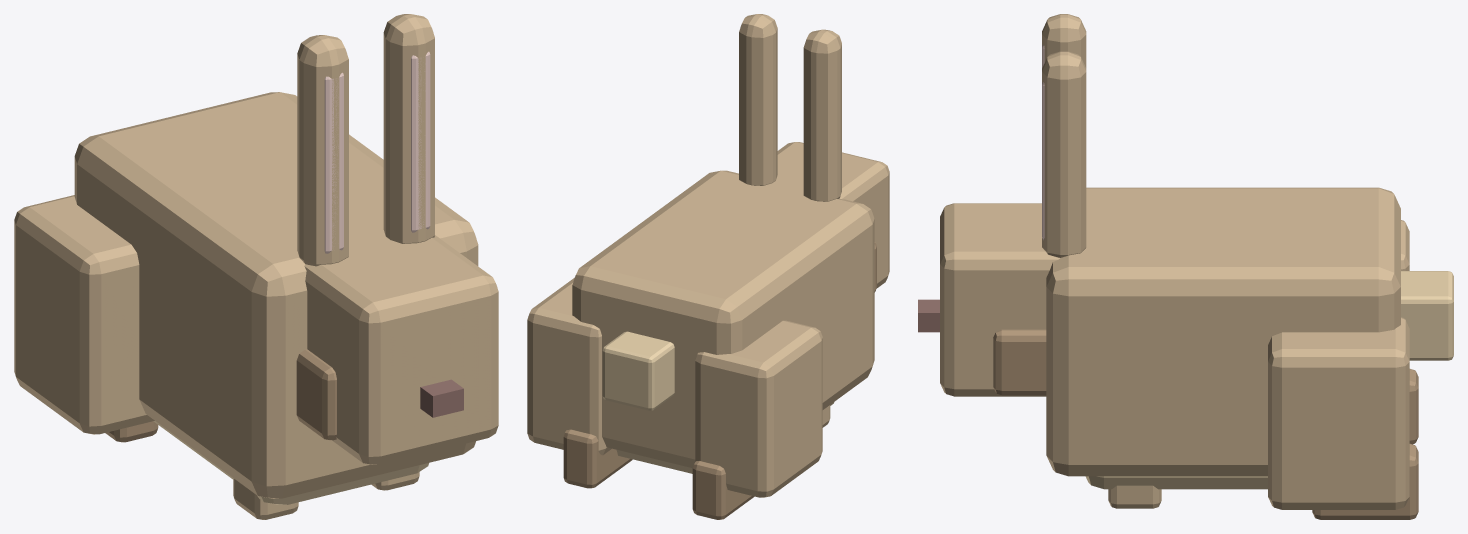
Rendered from hare.glb.
3 views of the same model, side by side, from view 1: azimuth 30°, elevation 25°; view 2: azimuth 150°, elevation 25°; view 3: azimuth 270°, elevation 25° (orthographic). The views are drawn at different scales.
Visible parts, largest first — view 1: Body, Head, Haunch_L, Ear_L, Ear_R, Cheek_L, Ear_R_Inner, Ear_L_Inner, Belly, Nose, Leg_FL, Leg_BL; view 2: Body, Haunch_L, Haunch_R, Ear_L, Ear_R, Head, Tail, Leg_BR, Leg_BL, Belly; view 3: Body, Haunch_R, Head, Ear_R, Tail, Cheek_R, Belly, Leg_BR, Ear_L, Leg_FR, Nose, Leg_BL.
Part boxes in pixels (bbox=[...]): Body: bbox=[74, 92, 478, 498]; Head: bbox=[304, 235, 498, 464]; Haunch_L: bbox=[14, 195, 154, 434]; Ear_L: bbox=[297, 35, 348, 266]; Ear_R: bbox=[383, 14, 434, 243]; Cheek_L: bbox=[296, 349, 336, 440]; Ear_R_Inner: bbox=[411, 51, 430, 232]; Ear_L_Inner: bbox=[324, 72, 343, 253]; Belly: bbox=[153, 421, 428, 504]; Nose: bbox=[420, 379, 463, 417]; Leg_FL: bbox=[233, 479, 298, 519]; Leg_BL: bbox=[105, 421, 158, 442]; Body: bbox=[572, 170, 874, 468]; Haunch_L: bbox=[695, 320, 822, 497]; Haunch_R: bbox=[527, 277, 611, 455]; Ear_L: bbox=[803, 29, 841, 201]; Ear_R: bbox=[739, 14, 777, 185]; Head: bbox=[733, 142, 889, 288]; Tail: bbox=[602, 331, 674, 410]; Leg_BR: bbox=[563, 429, 632, 488]; Leg_BL: bbox=[692, 461, 754, 519]; Belly: bbox=[616, 402, 834, 473]; Body: bbox=[1046, 187, 1400, 476]; Haunch_R: bbox=[1268, 317, 1409, 509]; Head: bbox=[940, 203, 1103, 396]; Ear_R: bbox=[1042, 51, 1086, 257]; Tail: bbox=[1401, 271, 1453, 360]; Cheek_R: bbox=[993, 329, 1046, 395]; Belly: bbox=[1085, 476, 1267, 489]; Leg_BR: bbox=[1312, 443, 1418, 519]; Ear_L: bbox=[1042, 14, 1086, 67]; Leg_FR: bbox=[1108, 485, 1161, 508]; Nose: bbox=[918, 299, 939, 332]; Leg_BL: bbox=[1409, 369, 1418, 444].
Bounding box in the file's own units: 0.38 × 0.55 × 0.605.
